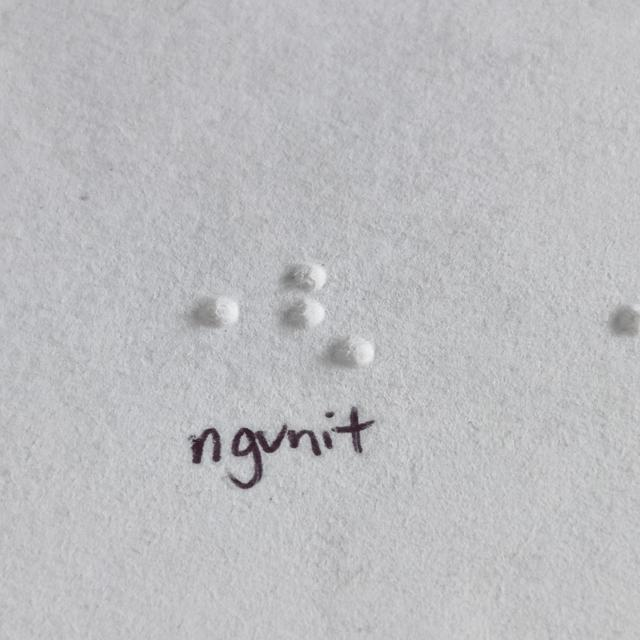dot_5: (149, 259, 239, 367)
two_cell_non_alphabet_ngunit: (285, 261, 375, 369)
